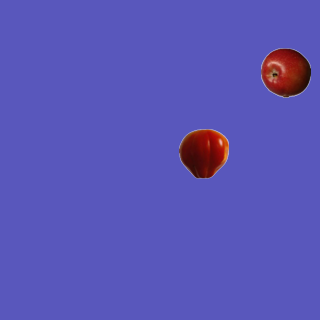Apple Braeburn: (260, 47, 310, 97)
Tomato 1: (178, 128, 228, 178)
